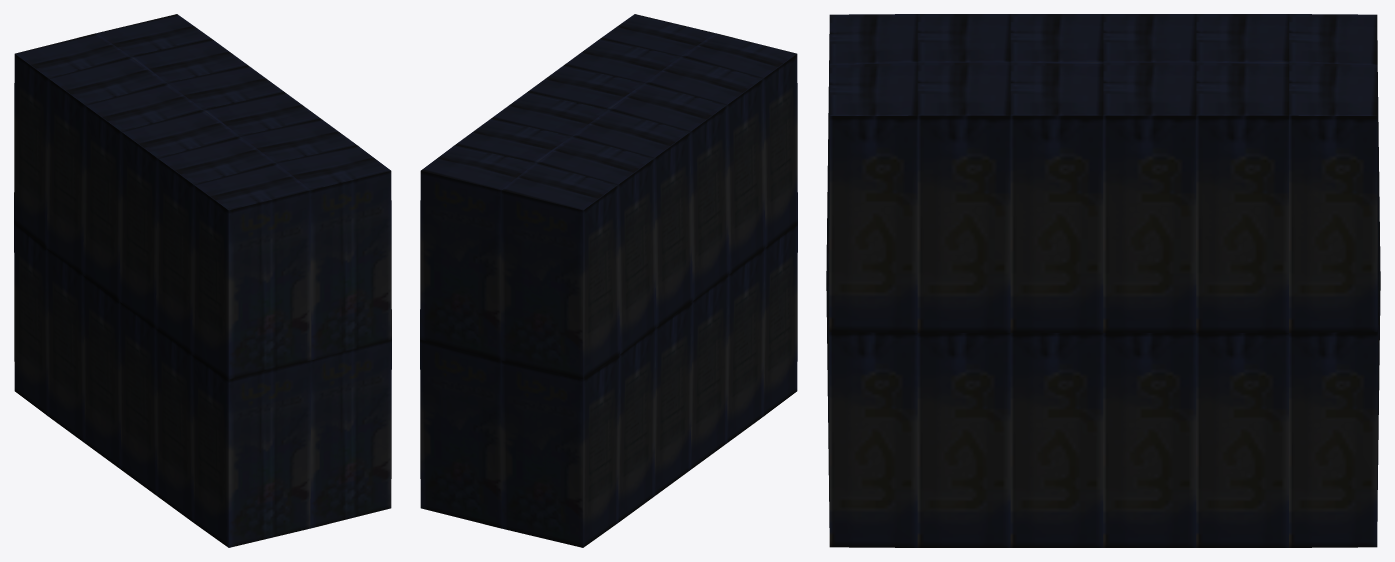
Rendered from p6_pak_food_juice_box_stacked_02_lod1.glb.
3 renders of one model, left to right at view 1: azimuth 30°, elevation 25°; view 2: azimuth 150°, elevation 25°; view 3: azimuth 270°, elevation 25°, orthographic. The views are drawn at different scales.
Parts seen in each view (by area): view 1: surf0; view 2: surf0; view 3: surf0.
Part boxes in pixels (box(x1,y1,x2,y2)): surf0: box(14, 14, 391, 547); surf0: box(420, 14, 797, 547); surf0: box(826, 14, 1380, 547).
Size of the model in its own units: 8.83 by 17.27 by 19.83.
